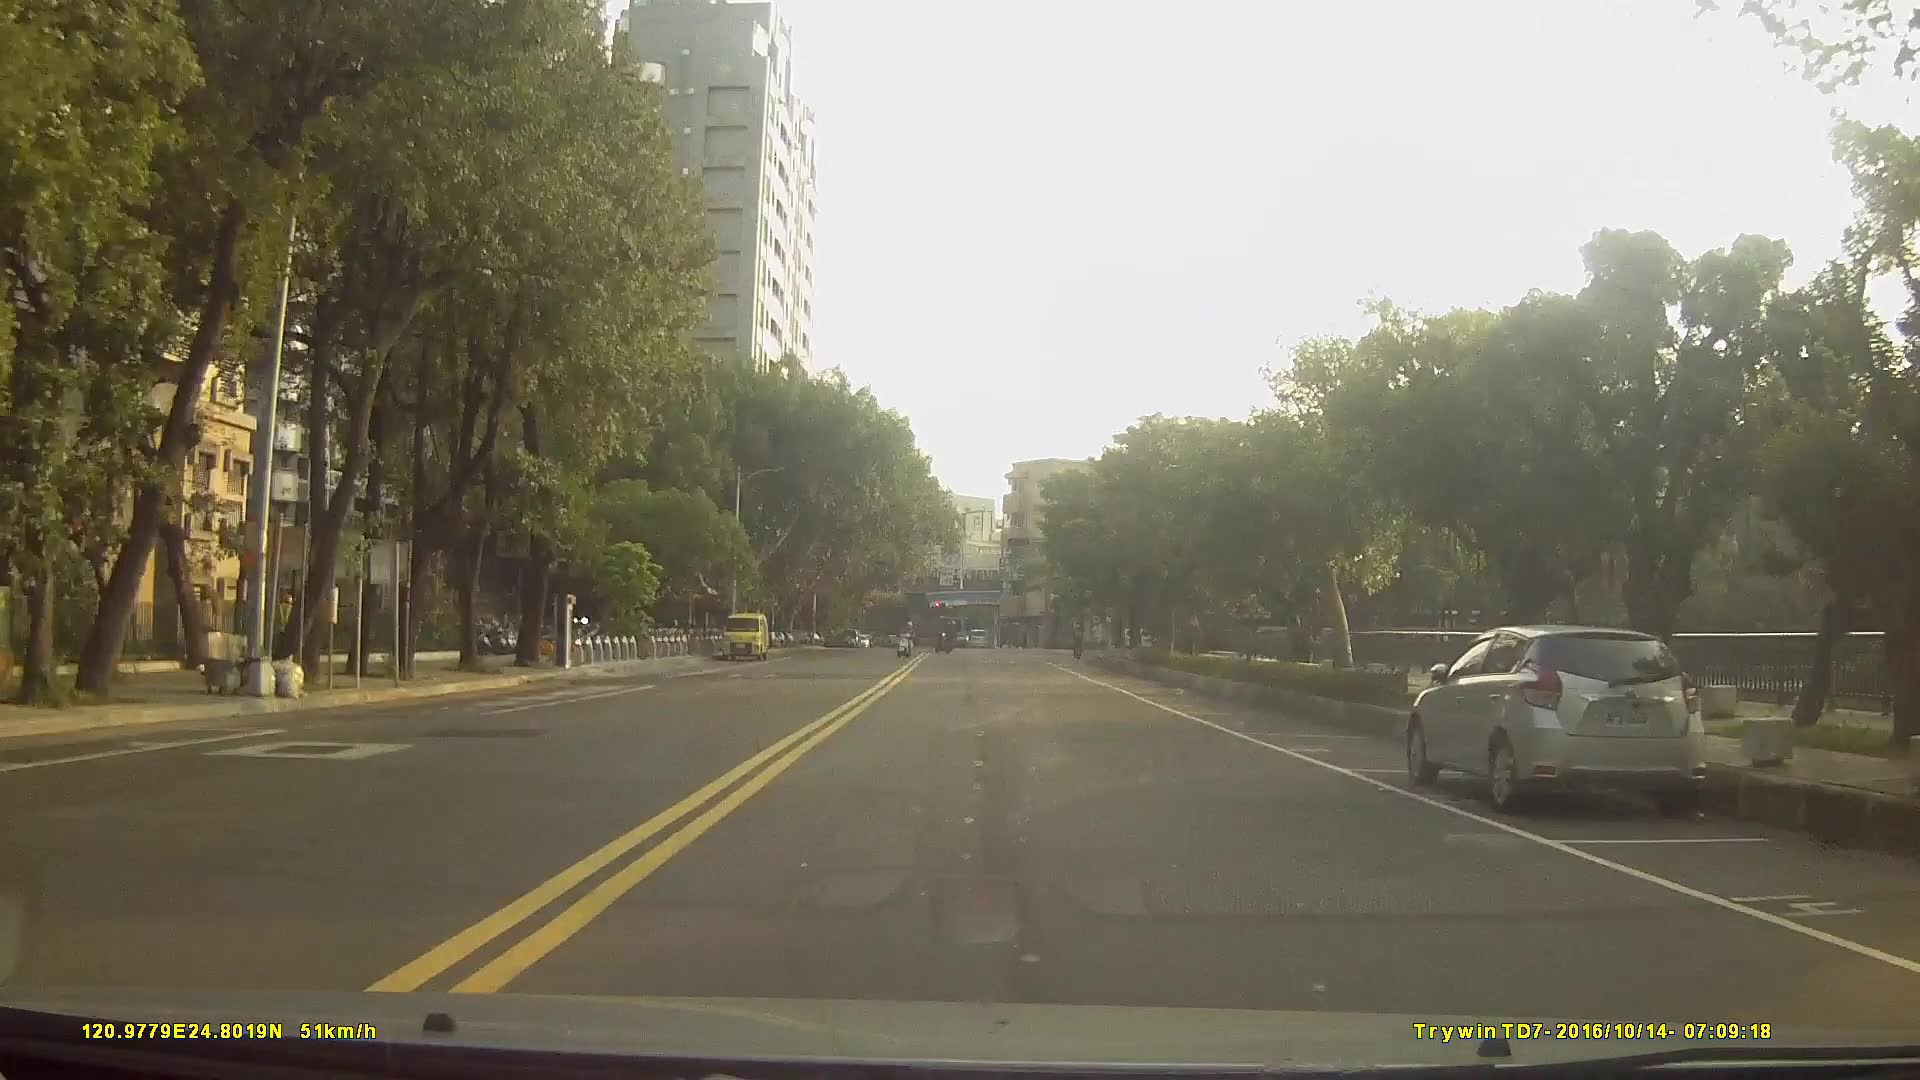pedestrian: (1086, 613, 1106, 656)
rider: (894, 621, 919, 661), (935, 621, 961, 656)
vehicle: (1408, 622, 1709, 819), (965, 626, 991, 650)
